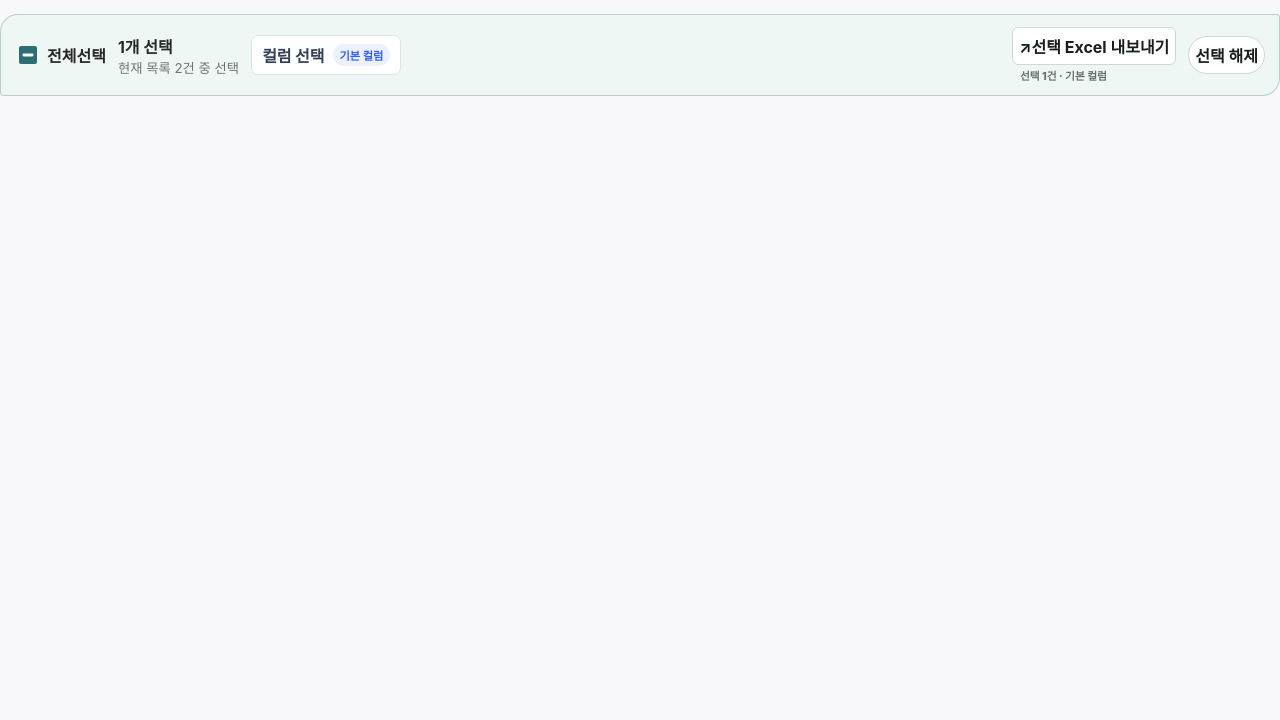
Test: SelectedExportTray column picker › loads server metadata, locks required columns, and exports a server-ordered subset
Click the button "컬럼 선택 기본 컬럼".
click(326, 55)  # box [251, 35, 401, 75]
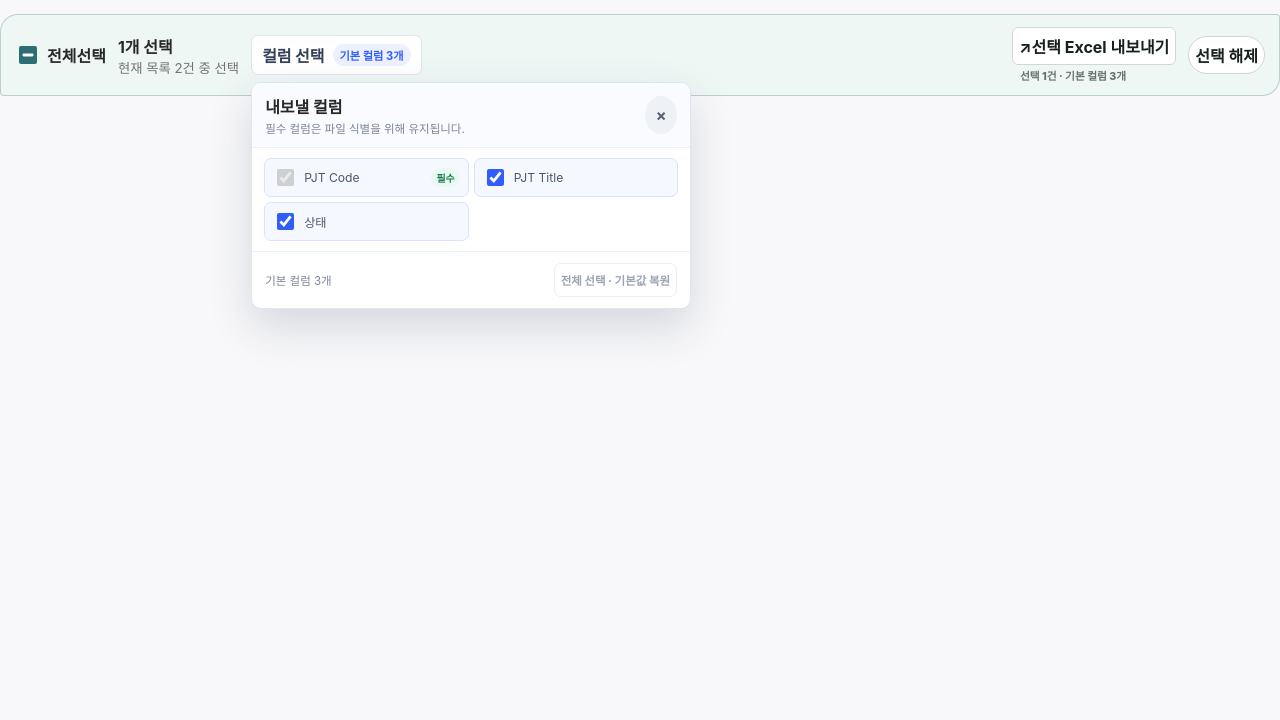
Result: the checkbox labelled "PJT Code 필수" is checked at [277, 169, 294, 186]
Result: the checkbox labelled "PJT Code 필수" is disabled at [277, 169, 294, 186]
Click the checkbox labelled "PJT Title".
click(495, 178)  # box [487, 169, 504, 186]
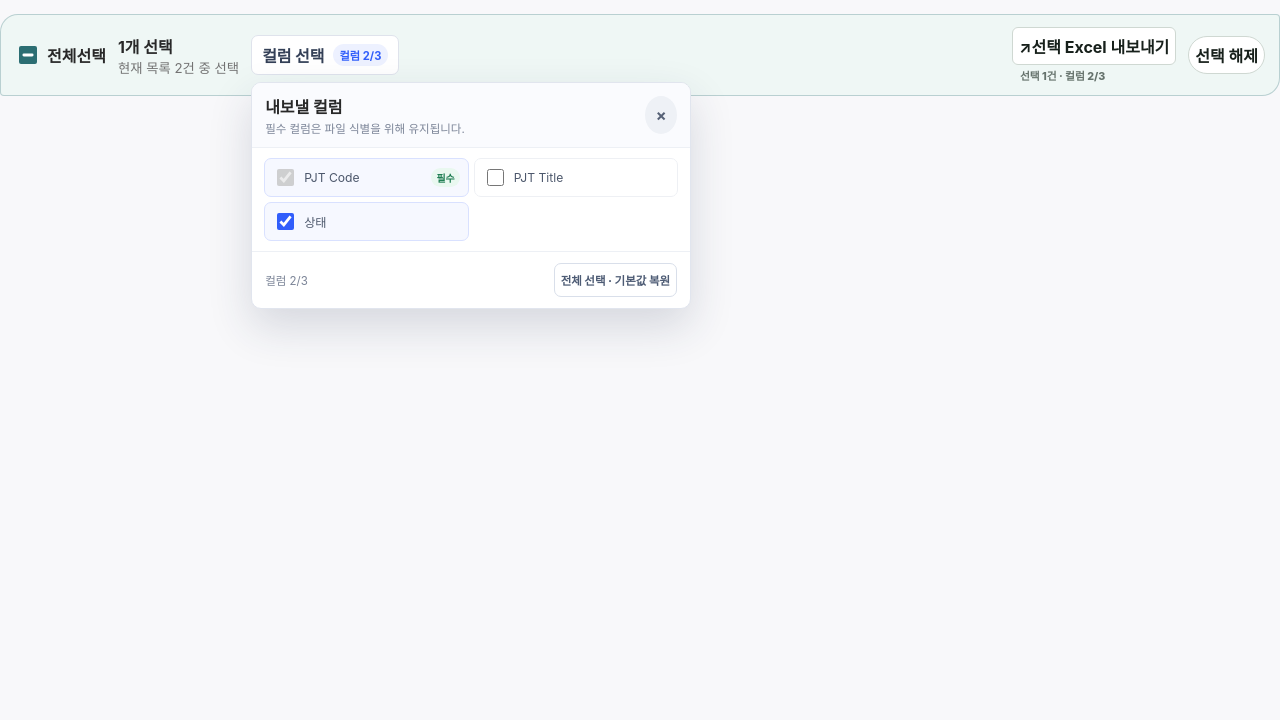
Click the checkbox labelled "상태".
click(286, 222)  # box [277, 213, 294, 230]
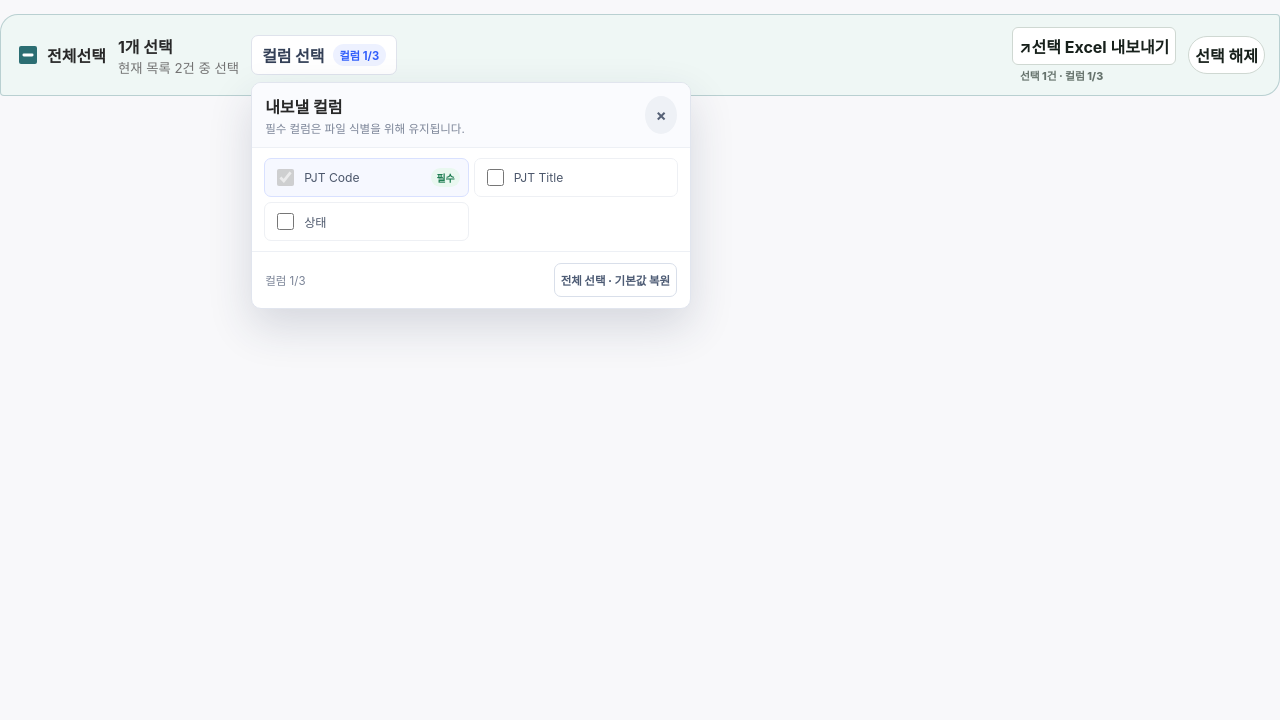
Result: the 1st text "컬럼 1/3" is shown at [332, 44, 386, 66]
Click the button "↗선택 Excel 내보내기".
click(1094, 46)  # box [1012, 27, 1176, 65]
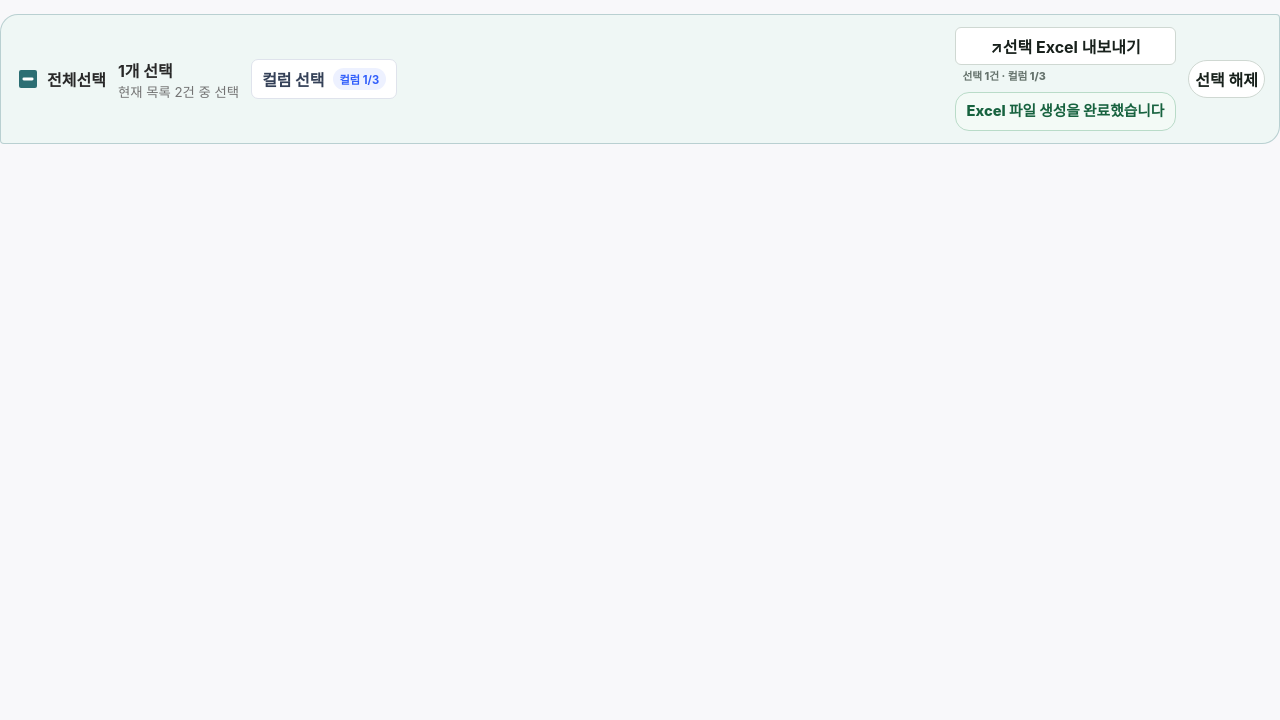
Result: the text "Excel 파일 생성을 완료했습니다" is shown at [954, 92, 1176, 131]
